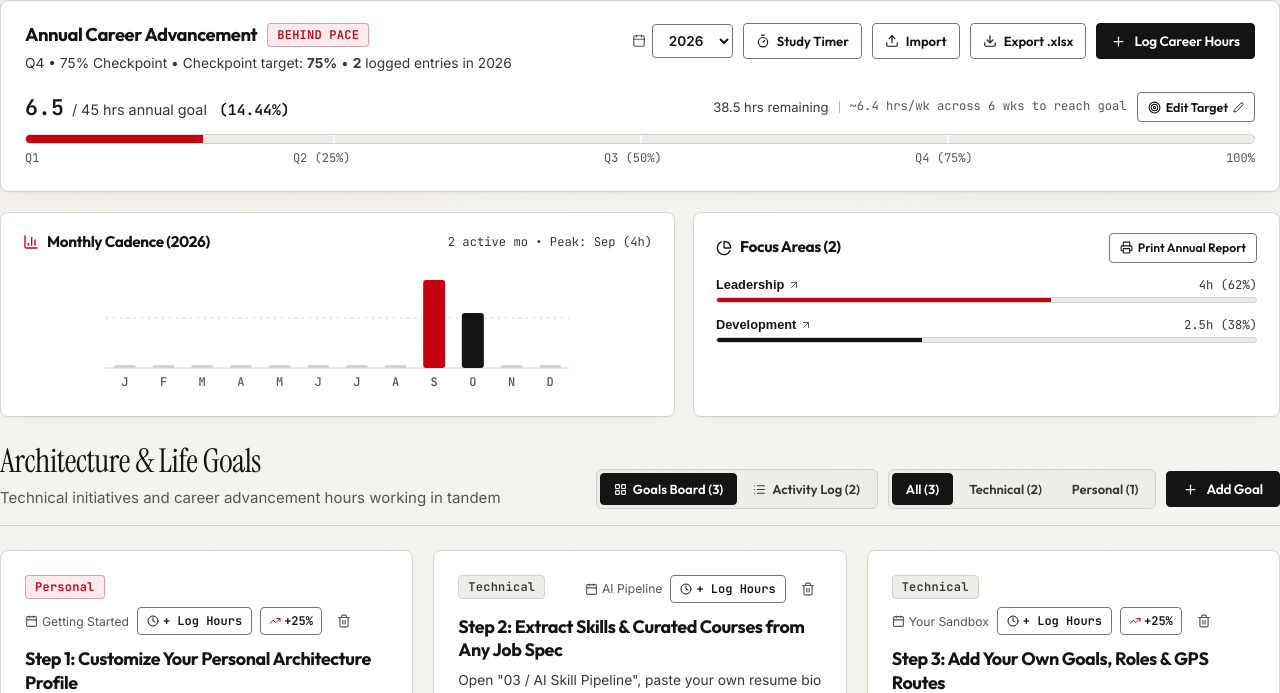
Test: Career Advancement Phase 2: Bulk Import, .xlsx & .csv Export › ImportCareerEntriesModal & GoalsSection UI integration › uploads CSV, lets user remap unrecognized category/goal in preview, and displays import results
The image size is (1280, 693).
Later steps or results of the test are not shown.
Click the button "Import": (916, 41) [872,23,960,59]
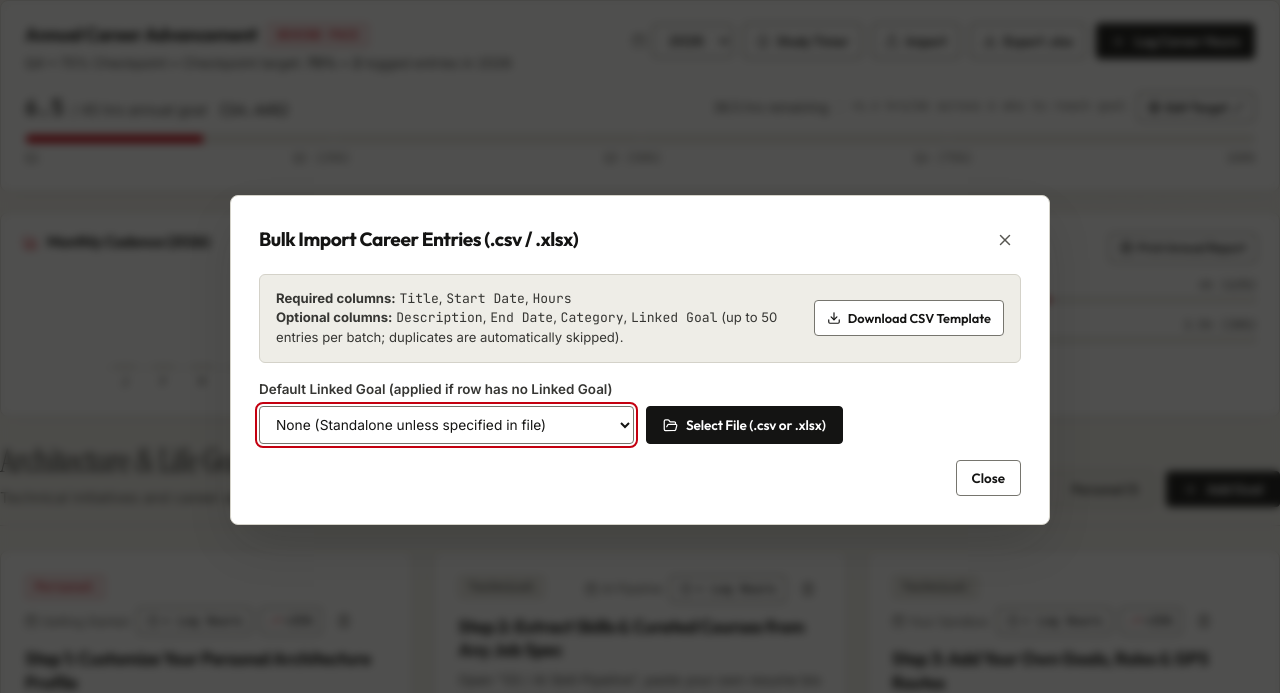
Now the heading "Bulk Import Career Entries (.csv / .xlsx)" is shown, box [259,228,578,251]
